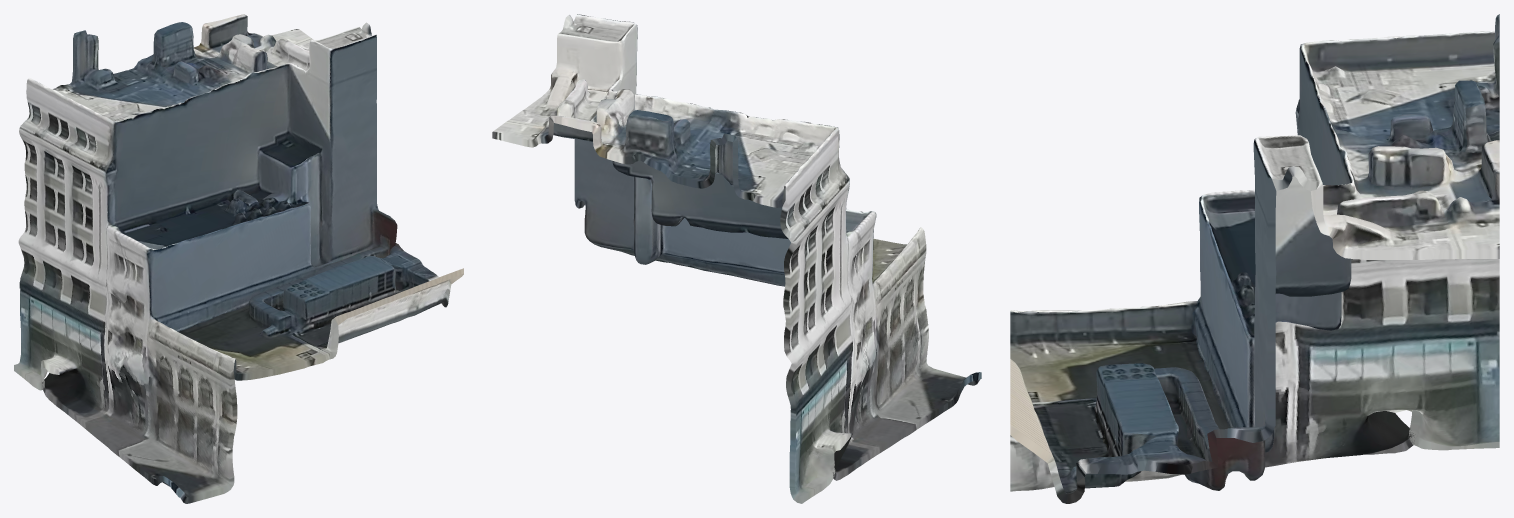
The model's file is z20-167753-405245-h0-yup-uvflip-v3-world.glb.
3 renders of one model, left to right at view 1: azimuth 30°, elevation 25°; view 2: azimuth 150°, elevation 25°; view 3: azimuth 270°, elevation 25°, orthographic. The views are drawn at different scales.
Size of the model in its own units: 30.16 by 34.72 by 30.32.
Materials: 1 (1 with a texture image).
